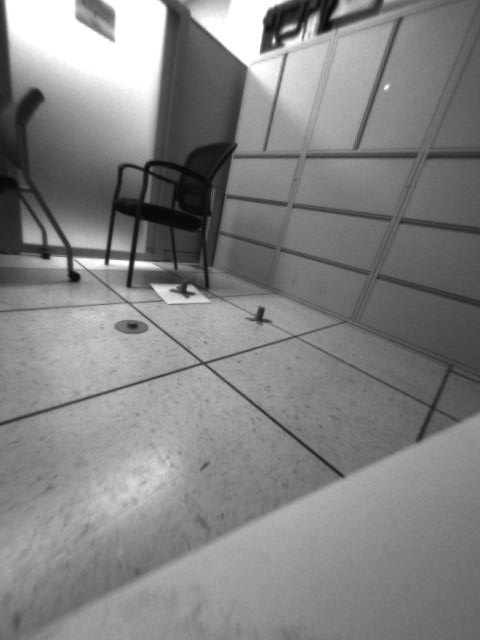X: (167, 277, 199, 300), (244, 302, 274, 325)
